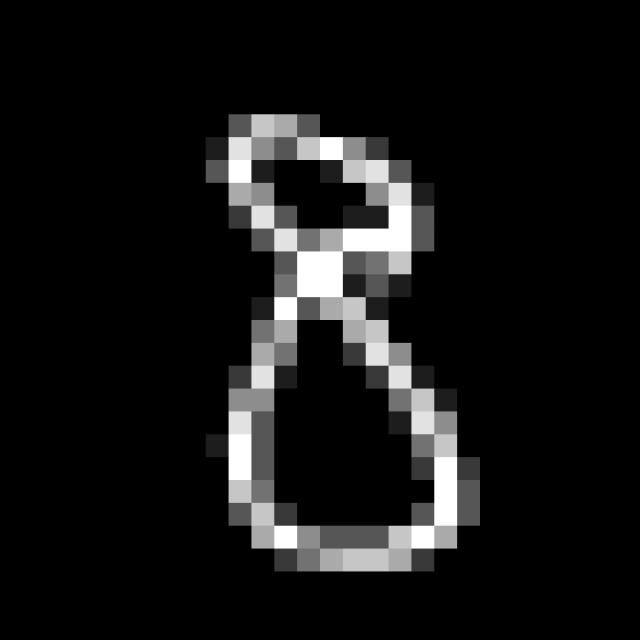eight -8-: (208, 94, 480, 583)
